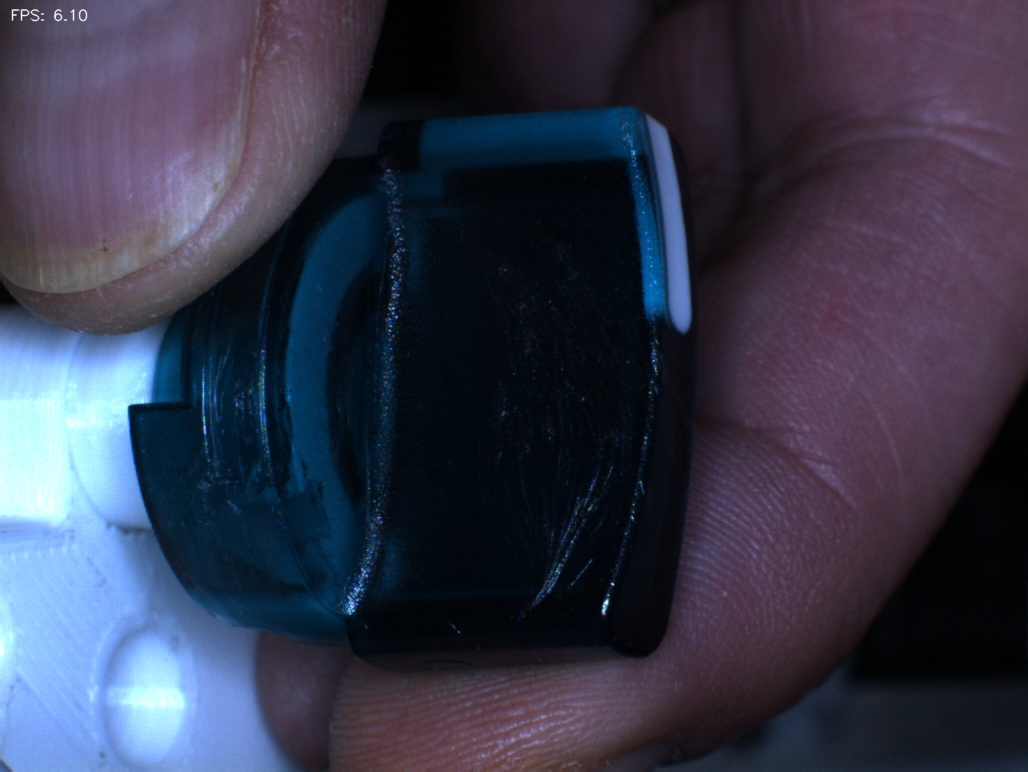Givrage: (483, 227, 617, 621)
